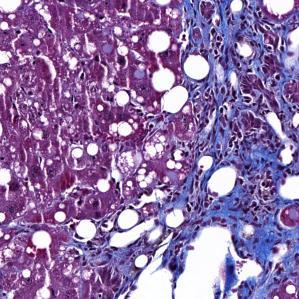fibrosis: (180, 8, 291, 115), (171, 138, 299, 230)
